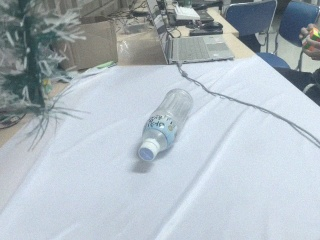bottle: (137, 87, 194, 162)
